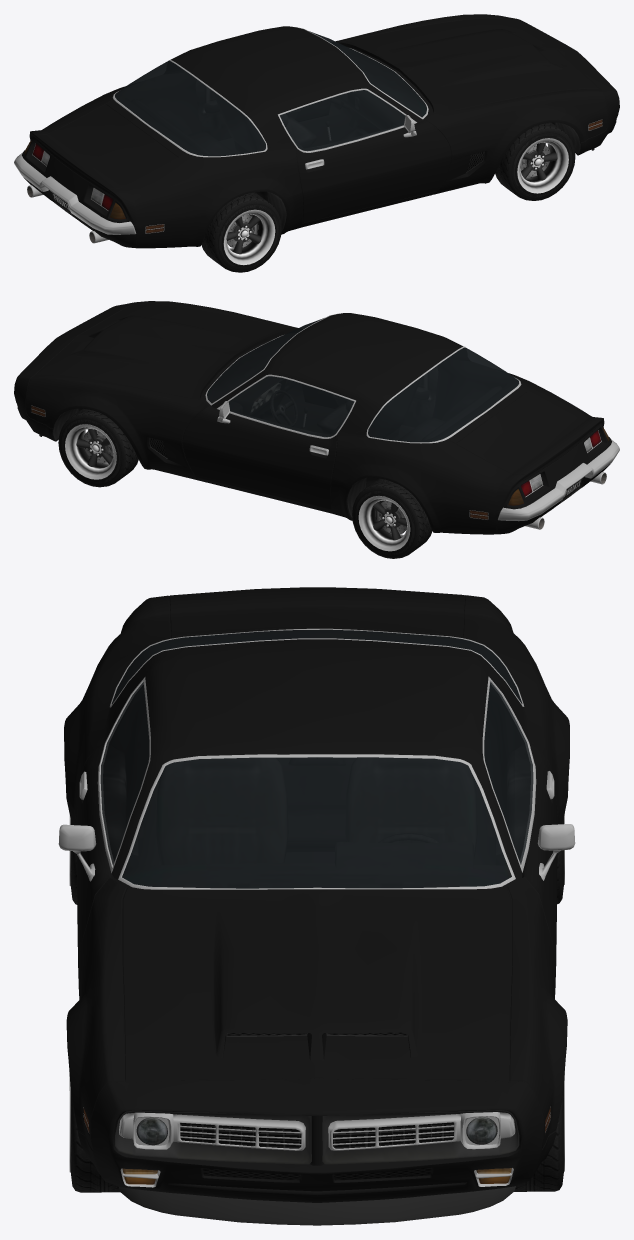
File: phoenix.glb
The picture shows the model from 3 angles, top to bottom: view 1: azimuth 30°, elevation 25°; view 2: azimuth 150°, elevation 25°; view 3: azimuth 270°, elevation 25°; orthographic projection. The views are drawn at different scales.
Visible parts, largest first — view 1: Phoenix445_Body_Phoenix445_Bodymat_0, Phoenix445_Interior_UCB_Interiors_2_0, Phoenix445_Hood_Phoenix445_Bodymat_0, Phoenix445_Glass_rear_UCB_Lights_and_Glass_Transperent_0, Phoenix445_Trunkdoor_Phoenix445_Bodymat_0, Phoenix445_Glass_Passenger_UCB_Lights_and_Glass_Transperent_, Phoenix445_WheelStock_RR_RB1c_Tire_1k_0, Phoenix445_WheelStock_FR_RB1c_Tire_1k_0, Phoenix445_Bottom_UCB_BOTTOM_0, Phoenix445_Bumper_rear_UCB_BOTTOM_0, Phoenix445_Windshield_UCB_Lights_and_Glass_Transperent_0, Phoenix445_Taillights_Glass_UCB_Lights_and_Glass_Transperent; view 2: Phoenix445_Body_Phoenix445_Bodymat_0, Phoenix445_Hood_Phoenix445_Bodymat_0, Phoenix445_Interior_UCB_Interiors_2_0, Phoenix445_Glass_rear_UCB_Lights_and_Glass_Transperent_0, Phoenix445_Trunkdoor_Phoenix445_Bodymat_0, Phoenix445_Glass_Driver_UCB_Lights_and_Glass_Transperent_0, Phoenix445_WheelStock_RL_RB1c_Tire_1k_0, Phoenix445_WheelStock_FL_RB1c_Tire_1k_0, Phoenix445_Bottom_UCB_BOTTOM_0, Phoenix445_Bumper_rear_UCB_BOTTOM_0, Phoenix445_Windshield_UCB_Lights_and_Glass_Transperent_0, Phoenix445_Taillights_Glass_UCB_Lights_and_Glass_Transperent (+1 smaller); view 3: Phoenix445_Body_Phoenix445_Bodymat_0, Phoenix445_Hood_Phoenix445_Bodymat_0, Phoenix445_Interior_UCB_Interiors_2_0, Phoenix445_Windshield_UCB_Lights_and_Glass_Transperent_0, Phoenix445_Bottom_UCB_BOTTOM_0, Phoenix445_Trunkdoor_Phoenix445_Bodymat_0, Phoenix445_Glass_Driver_UCB_Lights_and_Glass_Transperent_0, Phoenix445_Glass_Passenger_UCB_Lights_and_Glass_Transperent_, Phoenix445_Glass_rear_UCB_Lights_and_Glass_Transperent_0, Phoenix445_WheelStock_FR_RB1c_Tire_1k_0, Phoenix445_WheelStock_FL_RB1c_Tire_1k_0, Phoenix445_Headlights_glass_UCB_Lights_and_Glass_Transperent (+2 smaller).
Boxes of the visible parts, box(x1,y1,x2,y2) form: Phoenix445_Body_Phoenix445_Bodymat_0: box(22, 14, 619, 248); Phoenix445_Interior_UCB_Interiors_2_0: box(115, 47, 426, 155); Phoenix445_Hood_Phoenix445_Bodymat_0: box(339, 18, 598, 112); Phoenix445_Glass_rear_UCB_Lights_and_Glass_Transperent_0: box(115, 61, 265, 156); Phoenix445_Trunkdoor_Phoenix445_Bodymat_0: box(35, 104, 178, 194); Phoenix445_Glass_Passenger_UCB_Lights_and_Glass_Transperent_: box(280, 90, 405, 151); Phoenix445_WheelStock_RR_RB1c_Tire_1k_0: box(201, 192, 281, 272); Phoenix445_WheelStock_FR_RB1c_Tire_1k_0: box(495, 122, 575, 200); Phoenix445_Bottom_UCB_BOTTOM_0: box(27, 27, 602, 243); Phoenix445_Bumper_rear_UCB_BOTTOM_0: box(14, 152, 136, 234); Phoenix445_Windshield_UCB_Lights_and_Glass_Transperent_0: box(309, 31, 426, 117); Phoenix445_Taillights_Glass_UCB_Lights_and_Glass_Transperent: box(24, 141, 164, 233); Phoenix445_Body_Phoenix445_Bodymat_0: box(14, 301, 611, 534); Phoenix445_Hood_Phoenix445_Bodymat_0: box(35, 305, 294, 398); Phoenix445_Interior_UCB_Interiors_2_0: box(207, 334, 518, 441); Phoenix445_Glass_rear_UCB_Lights_and_Glass_Transperent_0: box(368, 347, 518, 442); Phoenix445_Trunkdoor_Phoenix445_Bodymat_0: box(456, 391, 599, 480); Phoenix445_Glass_Driver_UCB_Lights_and_Glass_Transperent_0: box(228, 376, 354, 437); Phoenix445_WheelStock_RL_RB1c_Tire_1k_0: box(352, 478, 432, 558); Phoenix445_WheelStock_FL_RB1c_Tire_1k_0: box(58, 408, 138, 487); Phoenix445_Bottom_UCB_BOTTOM_0: box(31, 313, 606, 529); Phoenix445_Bumper_rear_UCB_BOTTOM_0: box(498, 439, 619, 521); Phoenix445_Windshield_UCB_Lights_and_Glass_Transperent_0: box(207, 318, 323, 403); Phoenix445_Taillights_Glass_UCB_Lights_and_Glass_Transperent: box(469, 427, 609, 519); Phoenix445_Body_Phoenix445_Bodymat_0: box(64, 595, 569, 1202); Phoenix445_Hood_Phoenix445_Bodymat_0: box(122, 887, 511, 1081); Phoenix445_Interior_UCB_Interiors_2_0: box(103, 630, 530, 887); Phoenix445_Windshield_UCB_Lights_and_Glass_Transperent_0: box(122, 757, 511, 888); Phoenix445_Bottom_UCB_BOTTOM_0: box(58, 628, 575, 1225); Phoenix445_Trunkdoor_Phoenix445_Bodymat_0: box(169, 587, 464, 636); Phoenix445_Glass_Driver_UCB_Lights_and_Glass_Transperent_0: box(484, 681, 533, 864); Phoenix445_Glass_Passenger_UCB_Lights_and_Glass_Transperent_: box(100, 682, 149, 865); Phoenix445_Glass_rear_UCB_Lights_and_Glass_Transperent_0: box(111, 629, 522, 704); Phoenix445_WheelStock_FR_RB1c_Tire_1k_0: box(69, 1072, 119, 1192); Phoenix445_WheelStock_FL_RB1c_Tire_1k_0: box(514, 1071, 564, 1191); Phoenix445_Headlights_glass_UCB_Lights_and_Glass_Transperent: box(136, 1117, 497, 1145).
Bounding box in the file's own units: 4.89 × 1.33 × 2.09.
Materials: 7 (6 with a texture image).
